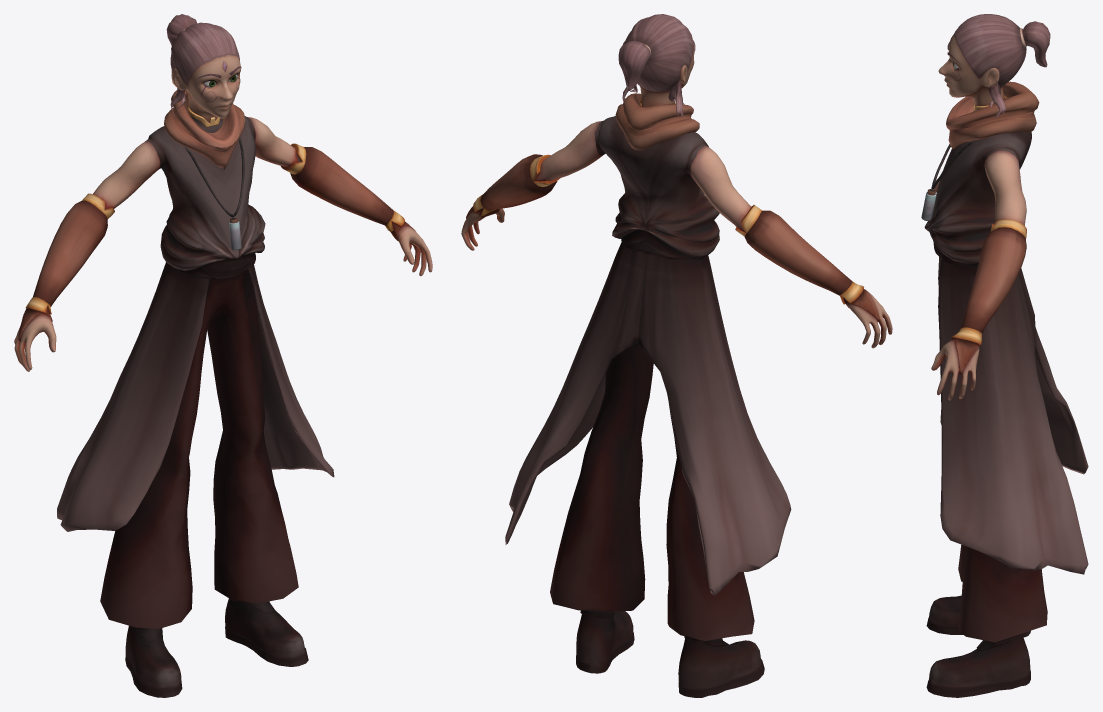
File: FullChar_LOD0.fbx
The picture shows the model from 3 angles, left to right: view 1: azimuth 30°, elevation 25°; view 2: azimuth 150°, elevation 25°; view 3: azimuth 270°, elevation 25°; orthographic projection. The views are drawn at different scales.
Visible parts, largest first — view 1: Body_LOD0, Head_LOD0, Necklace_LOD0; view 2: Body_LOD0, Head_LOD0; view 3: Body_LOD0, Head_LOD0, Necklace_LOD0.
Part boxes in pixels (x1,y1,x2,y2): Body_LOD0: (14, 116, 432, 697); Head_LOD0: (164, 14, 245, 169); Necklace_LOD0: (184, 137, 244, 250); Body_LOD0: (461, 116, 892, 697); Head_LOD0: (615, 14, 699, 150); Body_LOD0: (924, 131, 1088, 697); Head_LOD0: (938, 14, 1050, 149); Necklace_LOD0: (921, 140, 975, 220).
Bounding box in the file's own units: 365 × 543 × 128.
